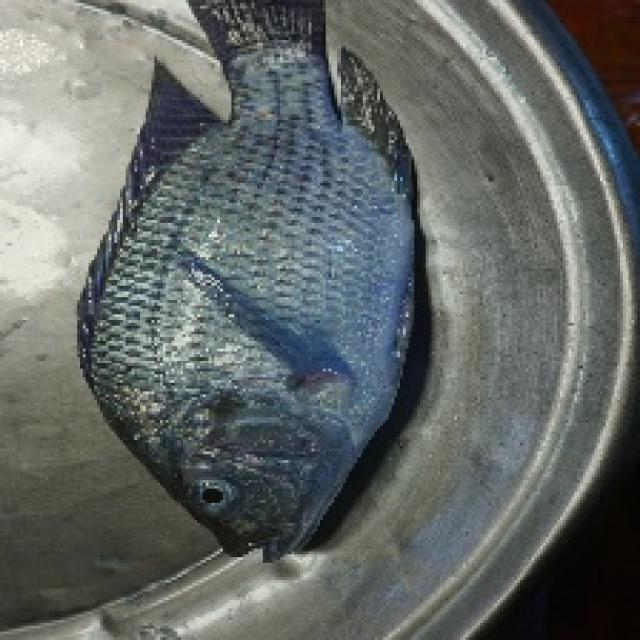Fresh: (72, 0, 439, 579)
